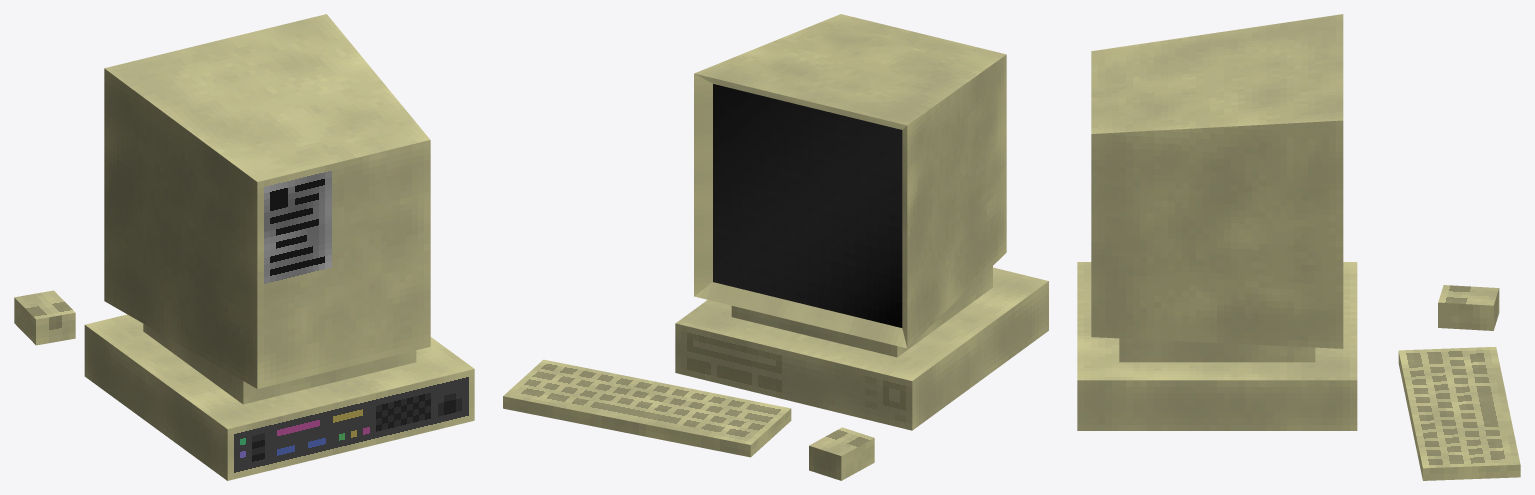
The model's file is terminal.gltf.
The picture shows the model from 3 angles, left to right: view 1: azimuth 30°, elevation 25°; view 2: azimuth 150°, elevation 25°; view 3: azimuth 270°, elevation 25°; orthographic projection. The views are drawn at different scales.
Parts seen in each view (by area): view 1: cuboid (×2), cube (×2); view 2: cuboid (×2), cube (×3); view 3: cuboid (×2), cube (×3).
Part boxes in pixels (<box>): cuboid (×2): <box>84,14,474,480</box>; cube (×2): <box>14,290,416,404</box>; cuboid (×2): <box>675,14,1048,430</box>; cube (×3): <box>503,266,992,480</box>; cuboid (×2): <box>1077,14,1357,430</box>; cube (×3): <box>1119,285,1520,480</box>.
Size of the model in its own units: 1.8 by 1.5 by 1.98.
Materials: 5 (5 with a texture image).
